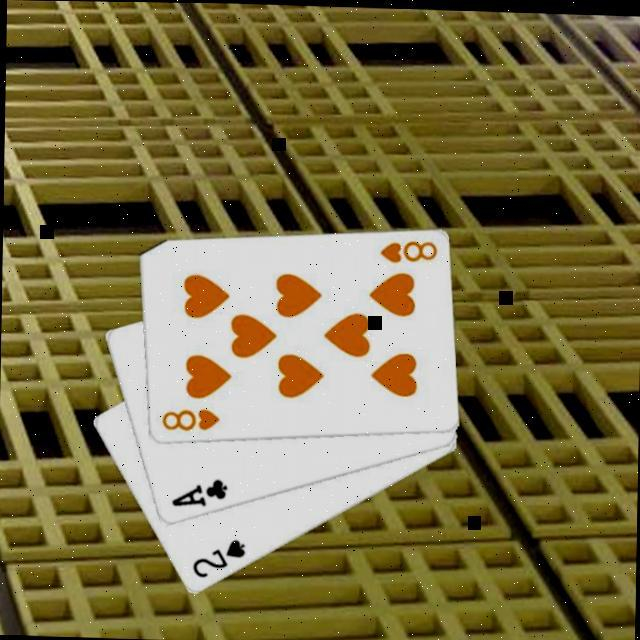2S: (188, 535, 248, 583)
8H: (158, 404, 223, 436), (377, 236, 439, 266)
AC: (168, 475, 231, 511)
